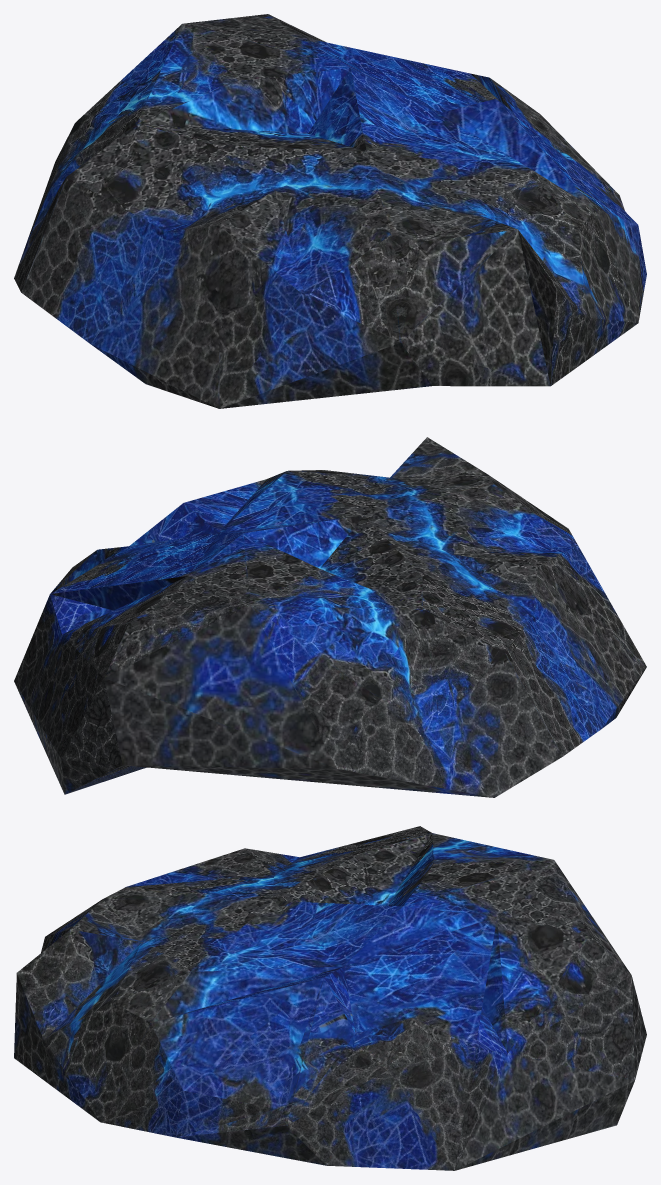
The model's file is ore-cobalt.glb.
The picture shows the model from 3 angles, top to bottom: view 1: azimuth 30°, elevation 25°; view 2: azimuth 150°, elevation 25°; view 3: azimuth 270°, elevation 25°; orthographic projection. The views are drawn at different scales.
Visible parts, largest first — view 1: output_unwrapped; view 2: output_unwrapped; view 3: output_unwrapped.
Part boxes in pixels (x1,y1,x2,y2): output_unwrapped: [14, 14, 646, 408]; output_unwrapped: [14, 437, 646, 797]; output_unwrapped: [14, 826, 646, 1170].
Bounding box in the file's own units: 1.67 × 0.6119 × 1.81.
Materials: 1 (1 with a texture image).
